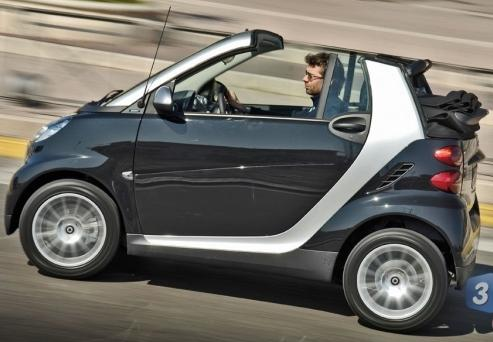backlight: (421, 140, 471, 201)
